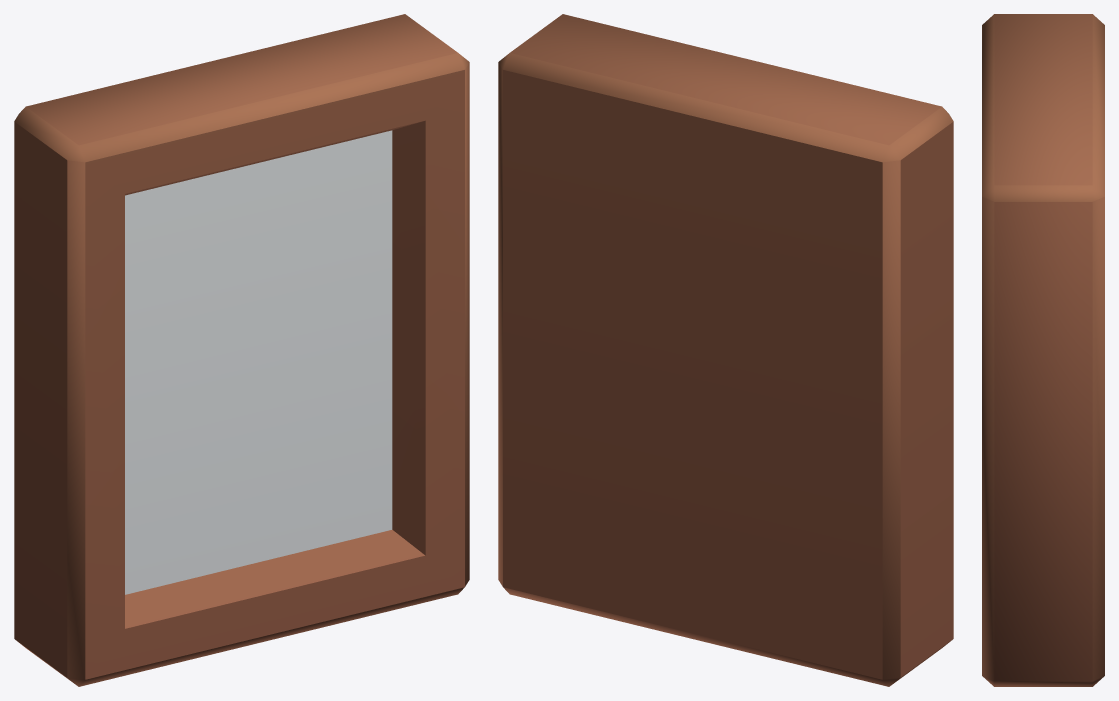
The model's file is pictureframe-medium.glb.
3 views of the same model, side by side, from view 1: azimuth 30°, elevation 25°; view 2: azimuth 150°, elevation 25°; view 3: azimuth 270°, elevation 25° (orthographic). The views are drawn at different scales.
Visible parts, largest first — view 1: pictureframe_medium; view 2: pictureframe_medium; view 3: pictureframe_medium.
Part boxes in pixels (x1,y1,x2,y2): pictureframe_medium: (14, 14, 469, 686); pictureframe_medium: (498, 14, 953, 686); pictureframe_medium: (982, 14, 1104, 686).
Size of the model in its own units: 0.7 by 0.9 by 0.2.
